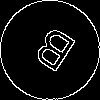B: (25, 25, 78, 82)
